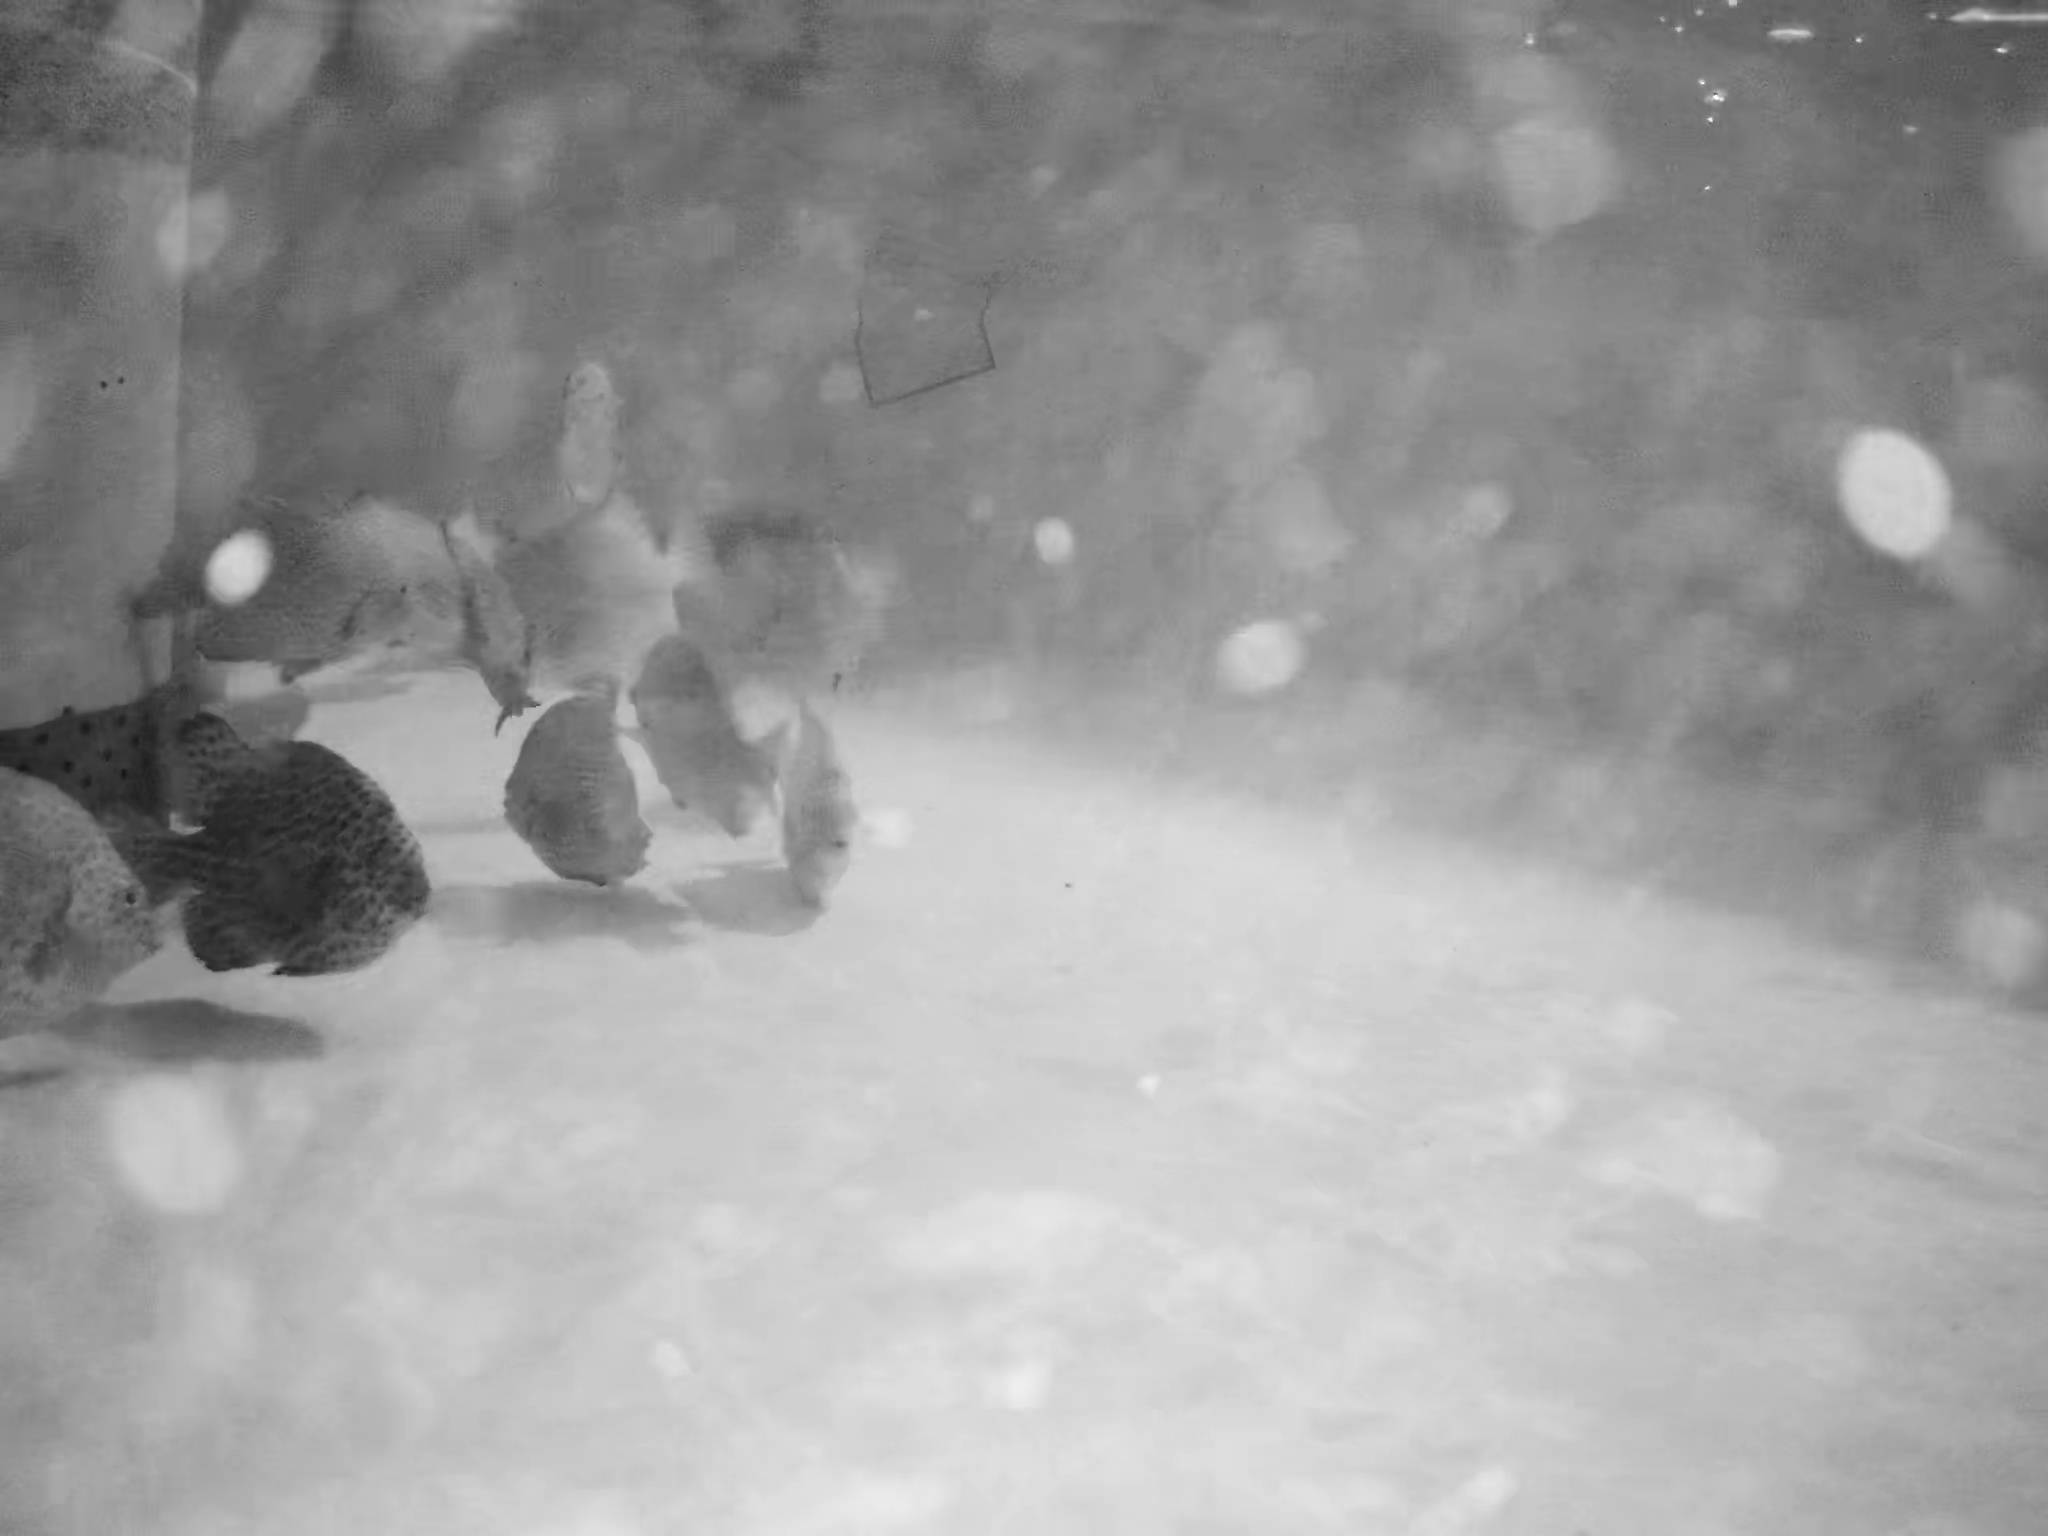fish: (132, 753, 450, 978), (156, 481, 490, 681), (664, 503, 930, 666), (627, 645, 842, 845), (2, 765, 139, 1025), (505, 700, 663, 891), (505, 524, 679, 692), (140, 671, 318, 810), (776, 702, 877, 907), (545, 350, 639, 494)
